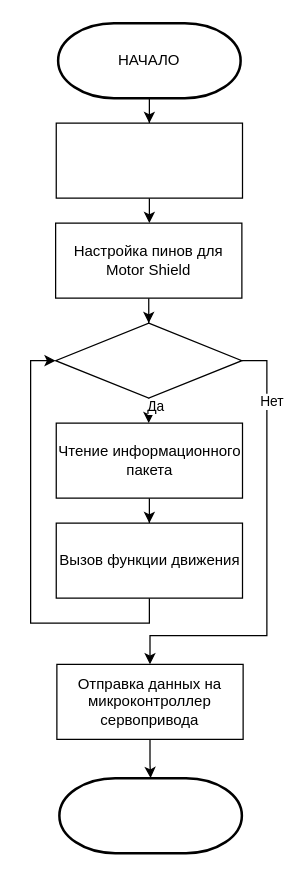
Image size: 305x875. Some labels were removed from this diagram. Here are the shapes that lost their labels. From the top down, the box of each, then its label:
(55, 122, 242, 198): Настройка модуля NRF24L01 и HC-SR04
(54, 322, 242, 398): Данные приходят
(58, 776, 242, 854): КОНЕЦ
